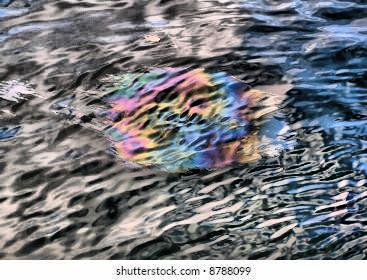rainbow: (80, 67, 293, 172)
truecolor: (0, 1, 367, 260)
